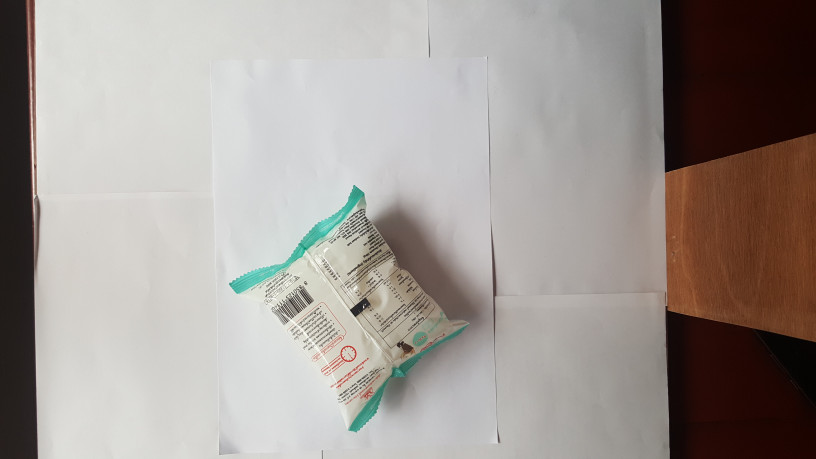farmhouse-sweetsandwich-chocolate: (226, 187, 473, 436)
